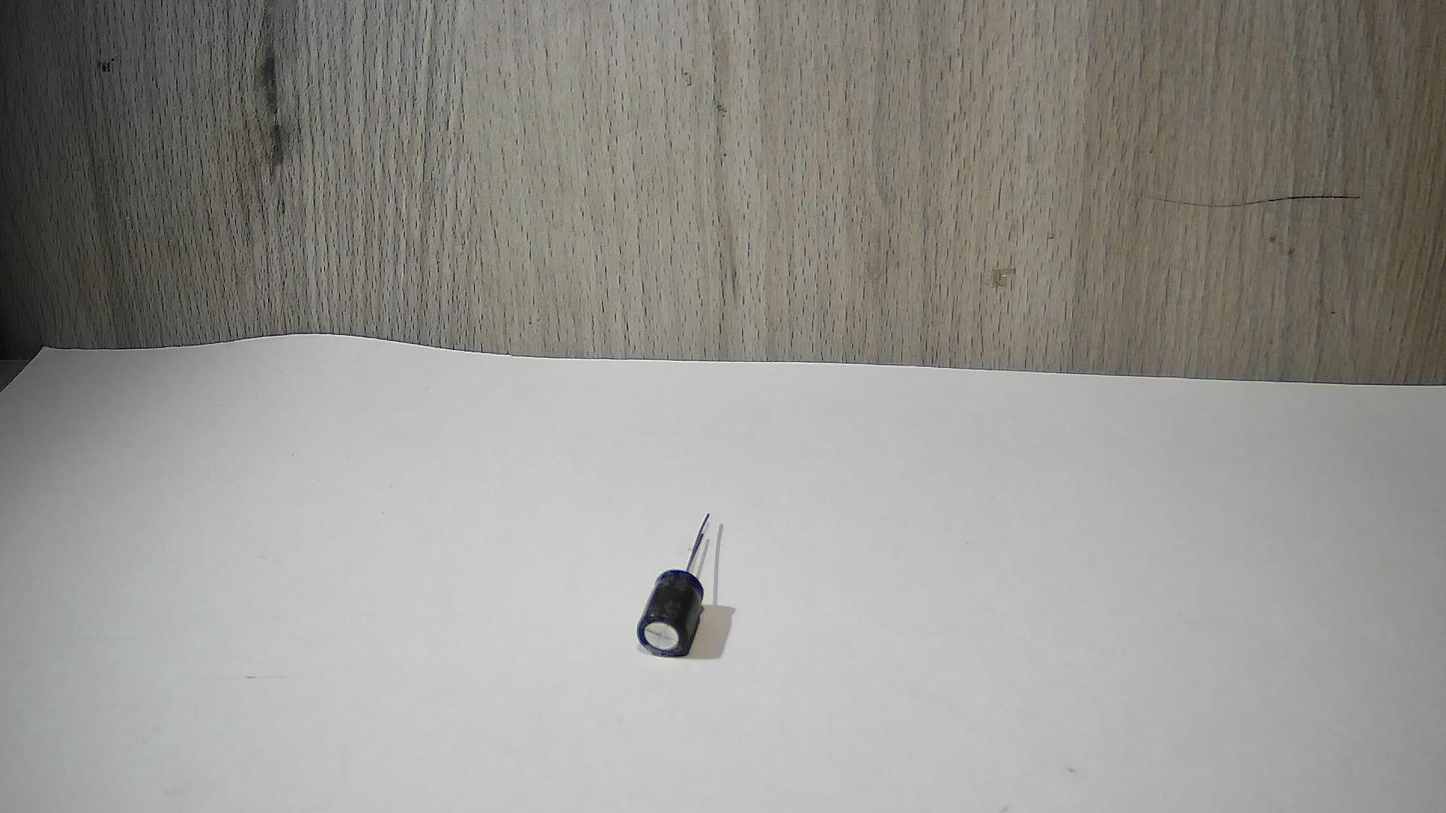Capacitor: (628, 494, 753, 657)
